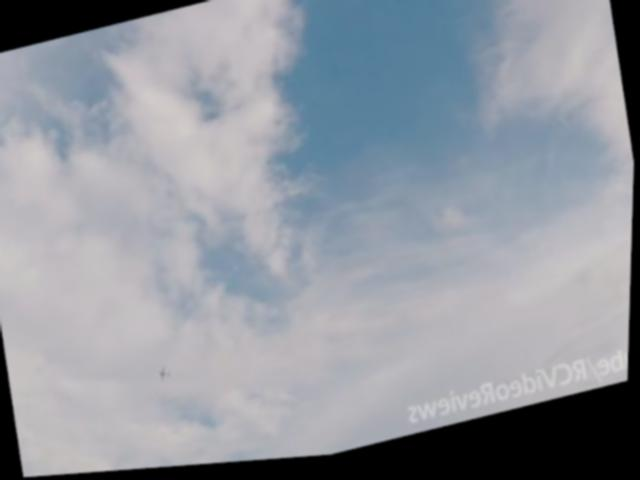uav: (153, 358, 182, 390)
